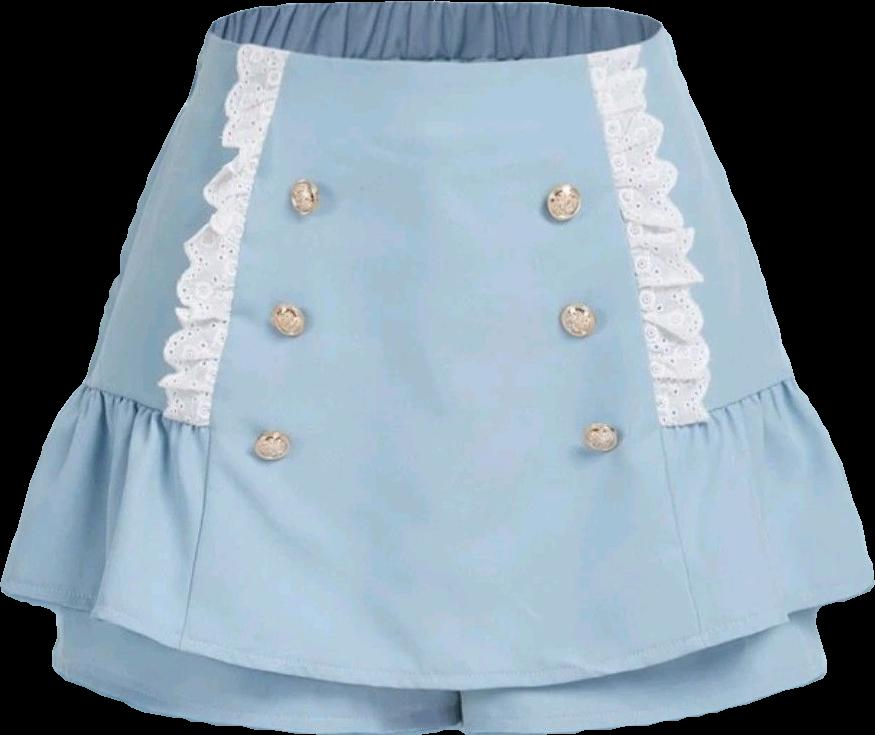Hemline: (48, 660, 833, 734), (693, 580, 874, 651), (0, 584, 178, 654)
Waistline: (80, 25, 794, 692)
